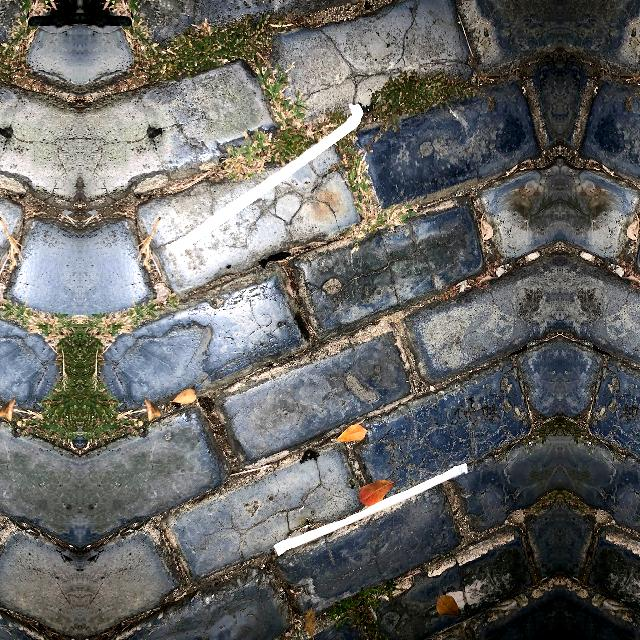Paper: (144, 89, 380, 268), (253, 450, 479, 570)
